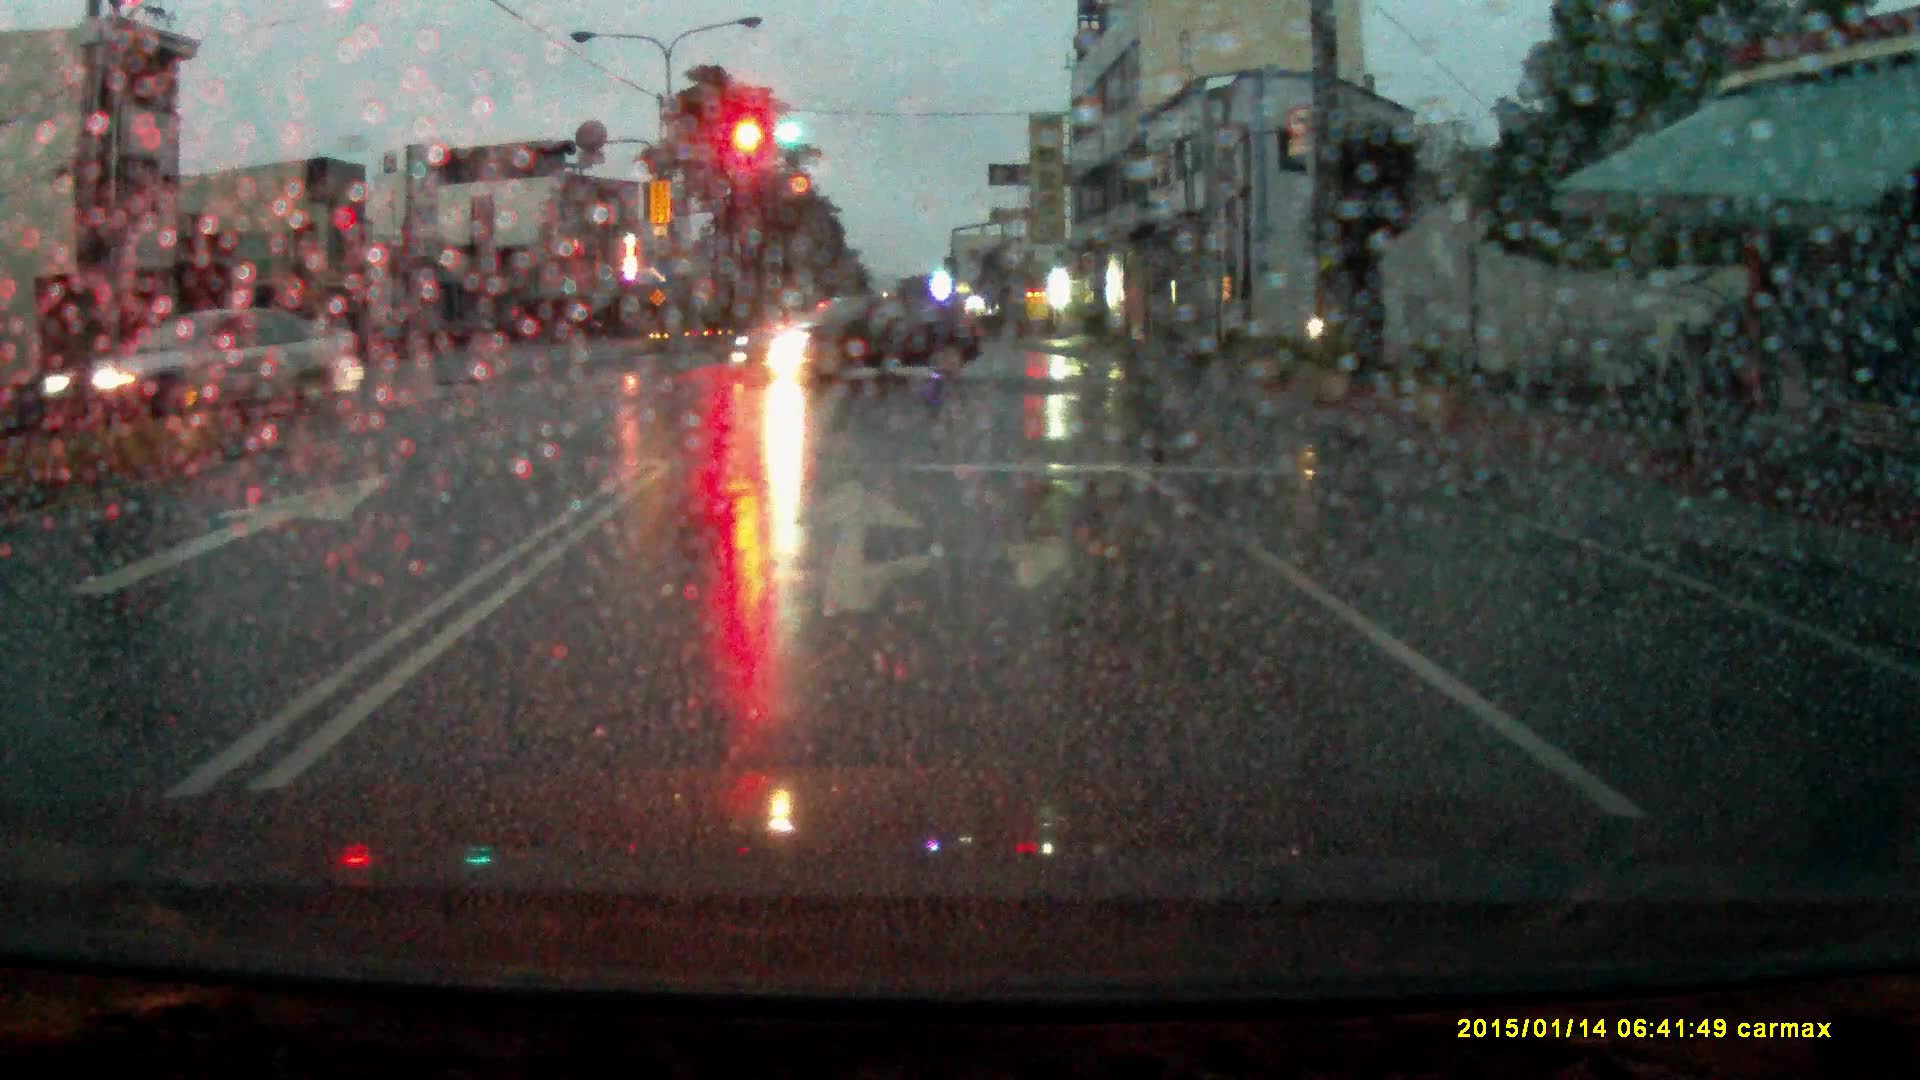vehicle: (49, 305, 373, 419), (732, 289, 982, 385)
